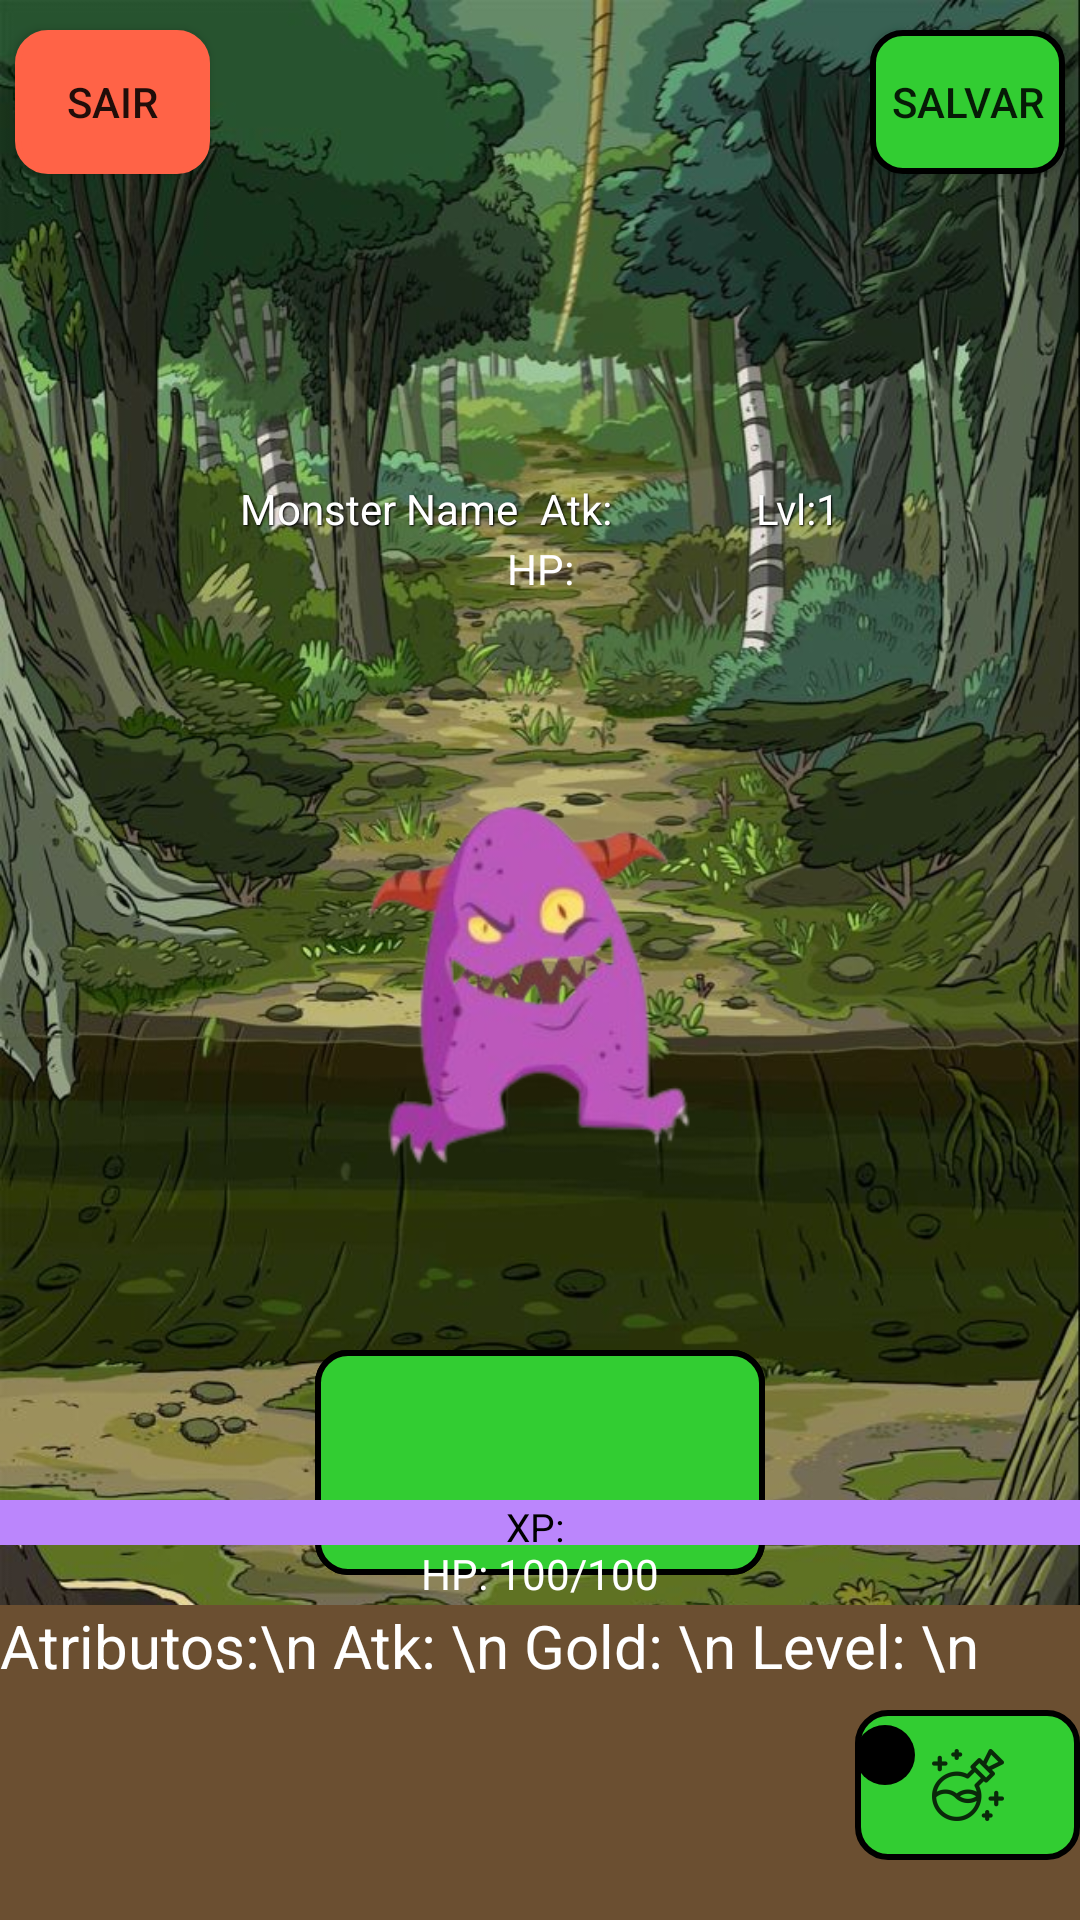

Icon click points for this 1080*1920 phone screenshot, format [x,y]:
potion: [967,1785]
